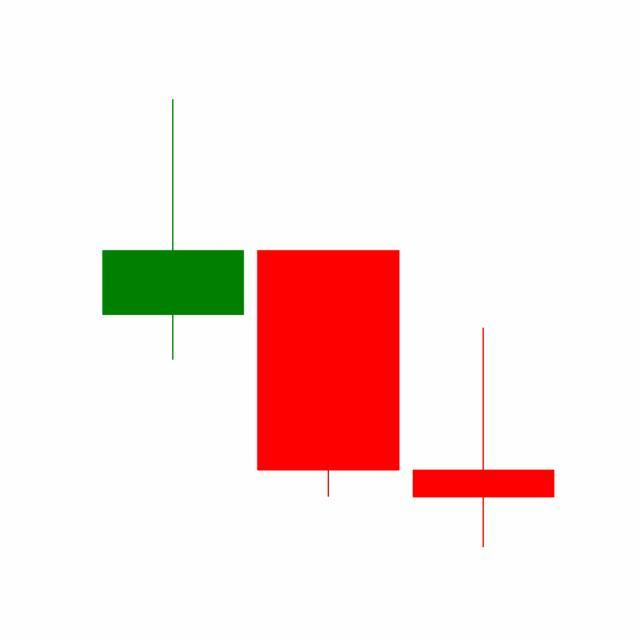Spinning Top: (406, 326, 562, 550)
